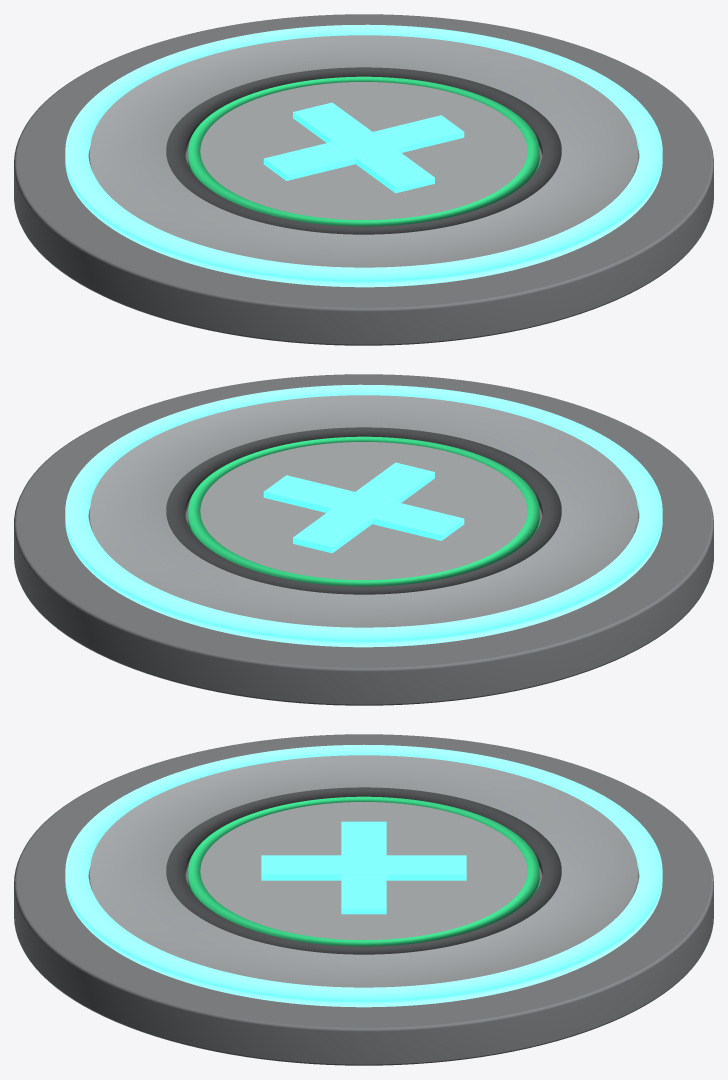
The model's file is CyberHealingStation.fbx.
3 renders of one model, top to bottom at view 1: azimuth 30°, elevation 25°; view 2: azimuth 150°, elevation 25°; view 3: azimuth 270°, elevation 25°, orthographic.
Parts seen in each view (by area): view 1: CHS_main raised grey circular floor pad, CHS_outer contoured grey disk lip, CHS_center flush grey medical disk, CHS_activation feedback flush ring, CHS_inner charcoal recessed ring, CHS_flush perimeter color band, CHS_medical cross vertical, CHS_medical cross horizontal; view 2: CHS_main raised grey circular floor pad, CHS_outer contoured grey disk lip, CHS_center flush grey medical disk, CHS_activation feedback flush ring, CHS_inner charcoal recessed ring, CHS_flush perimeter color band, CHS_medical cross vertical, CHS_medical cross horizontal; view 3: CHS_main raised grey circular floor pad, CHS_outer contoured grey disk lip, CHS_center flush grey medical disk, CHS_activation feedback flush ring, CHS_inner charcoal recessed ring, CHS_flush perimeter color band, CHS_medical cross vertical, CHS_medical cross horizontal.
Part boxes in pixels (x1=…): CHS_main raised grey circular floor pad: x1=14, y1=14, x2=713, y2=345; CHS_outer contoured grey disk lip: x1=90, y1=35, x2=637, y2=267; CHS_center flush grey medical disk: x1=200, y1=82, x2=527, y2=220; CHS_activation feedback flush ring: x1=65, y1=24, x2=662, y2=287; CHS_inner charcoal recessed ring: x1=166, y1=67, x2=561, y2=234; CHS_flush perimeter color band: x1=188, y1=76, x2=539, y2=226; CHS_medical cross vertical: x1=293, y1=102, x2=434, y2=193; CHS_medical cross horizontal: x1=263, y1=115, x2=464, y2=180; CHS_main raised grey circular floor pad: x1=14, y1=374, x2=713, y2=705; CHS_outer contoured grey disk lip: x1=90, y1=395, x2=637, y2=627; CHS_center flush grey medical disk: x1=200, y1=442, x2=527, y2=580; CHS_activation feedback flush ring: x1=65, y1=384, x2=662, y2=647; CHS_inner charcoal recessed ring: x1=166, y1=427, x2=561, y2=594; CHS_flush perimeter color band: x1=188, y1=436, x2=539, y2=586; CHS_medical cross vertical: x1=293, y1=462, x2=434, y2=553; CHS_medical cross horizontal: x1=263, y1=475, x2=464, y2=540; CHS_main raised grey circular floor pad: x1=14, y1=734, x2=713, y2=1065; CHS_outer contoured grey disk lip: x1=90, y1=755, x2=637, y2=987; CHS_center flush grey medical disk: x1=200, y1=802, x2=527, y2=940; CHS_activation feedback flush ring: x1=65, y1=744, x2=662, y2=1007; CHS_inner charcoal recessed ring: x1=166, y1=787, x2=561, y2=954; CHS_flush perimeter color band: x1=188, y1=796, x2=539, y2=946; CHS_medical cross vertical: x1=261, y1=855, x2=466, y2=880; CHS_medical cross horizontal: x1=341, y1=821, x2=386, y2=914.
Size of the model in its own units: 285 by 24.34 by 285.
